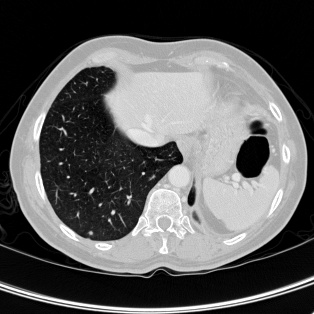PN: (89, 231, 93, 235)
